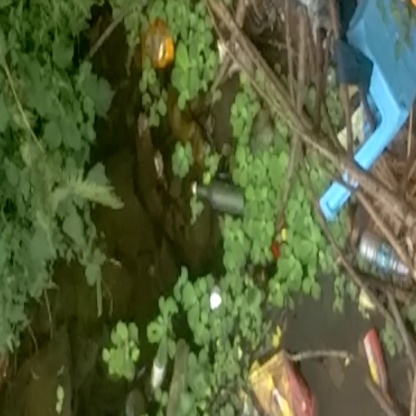bottle: (352, 223, 416, 288), (185, 168, 265, 218), (357, 325, 397, 405)
